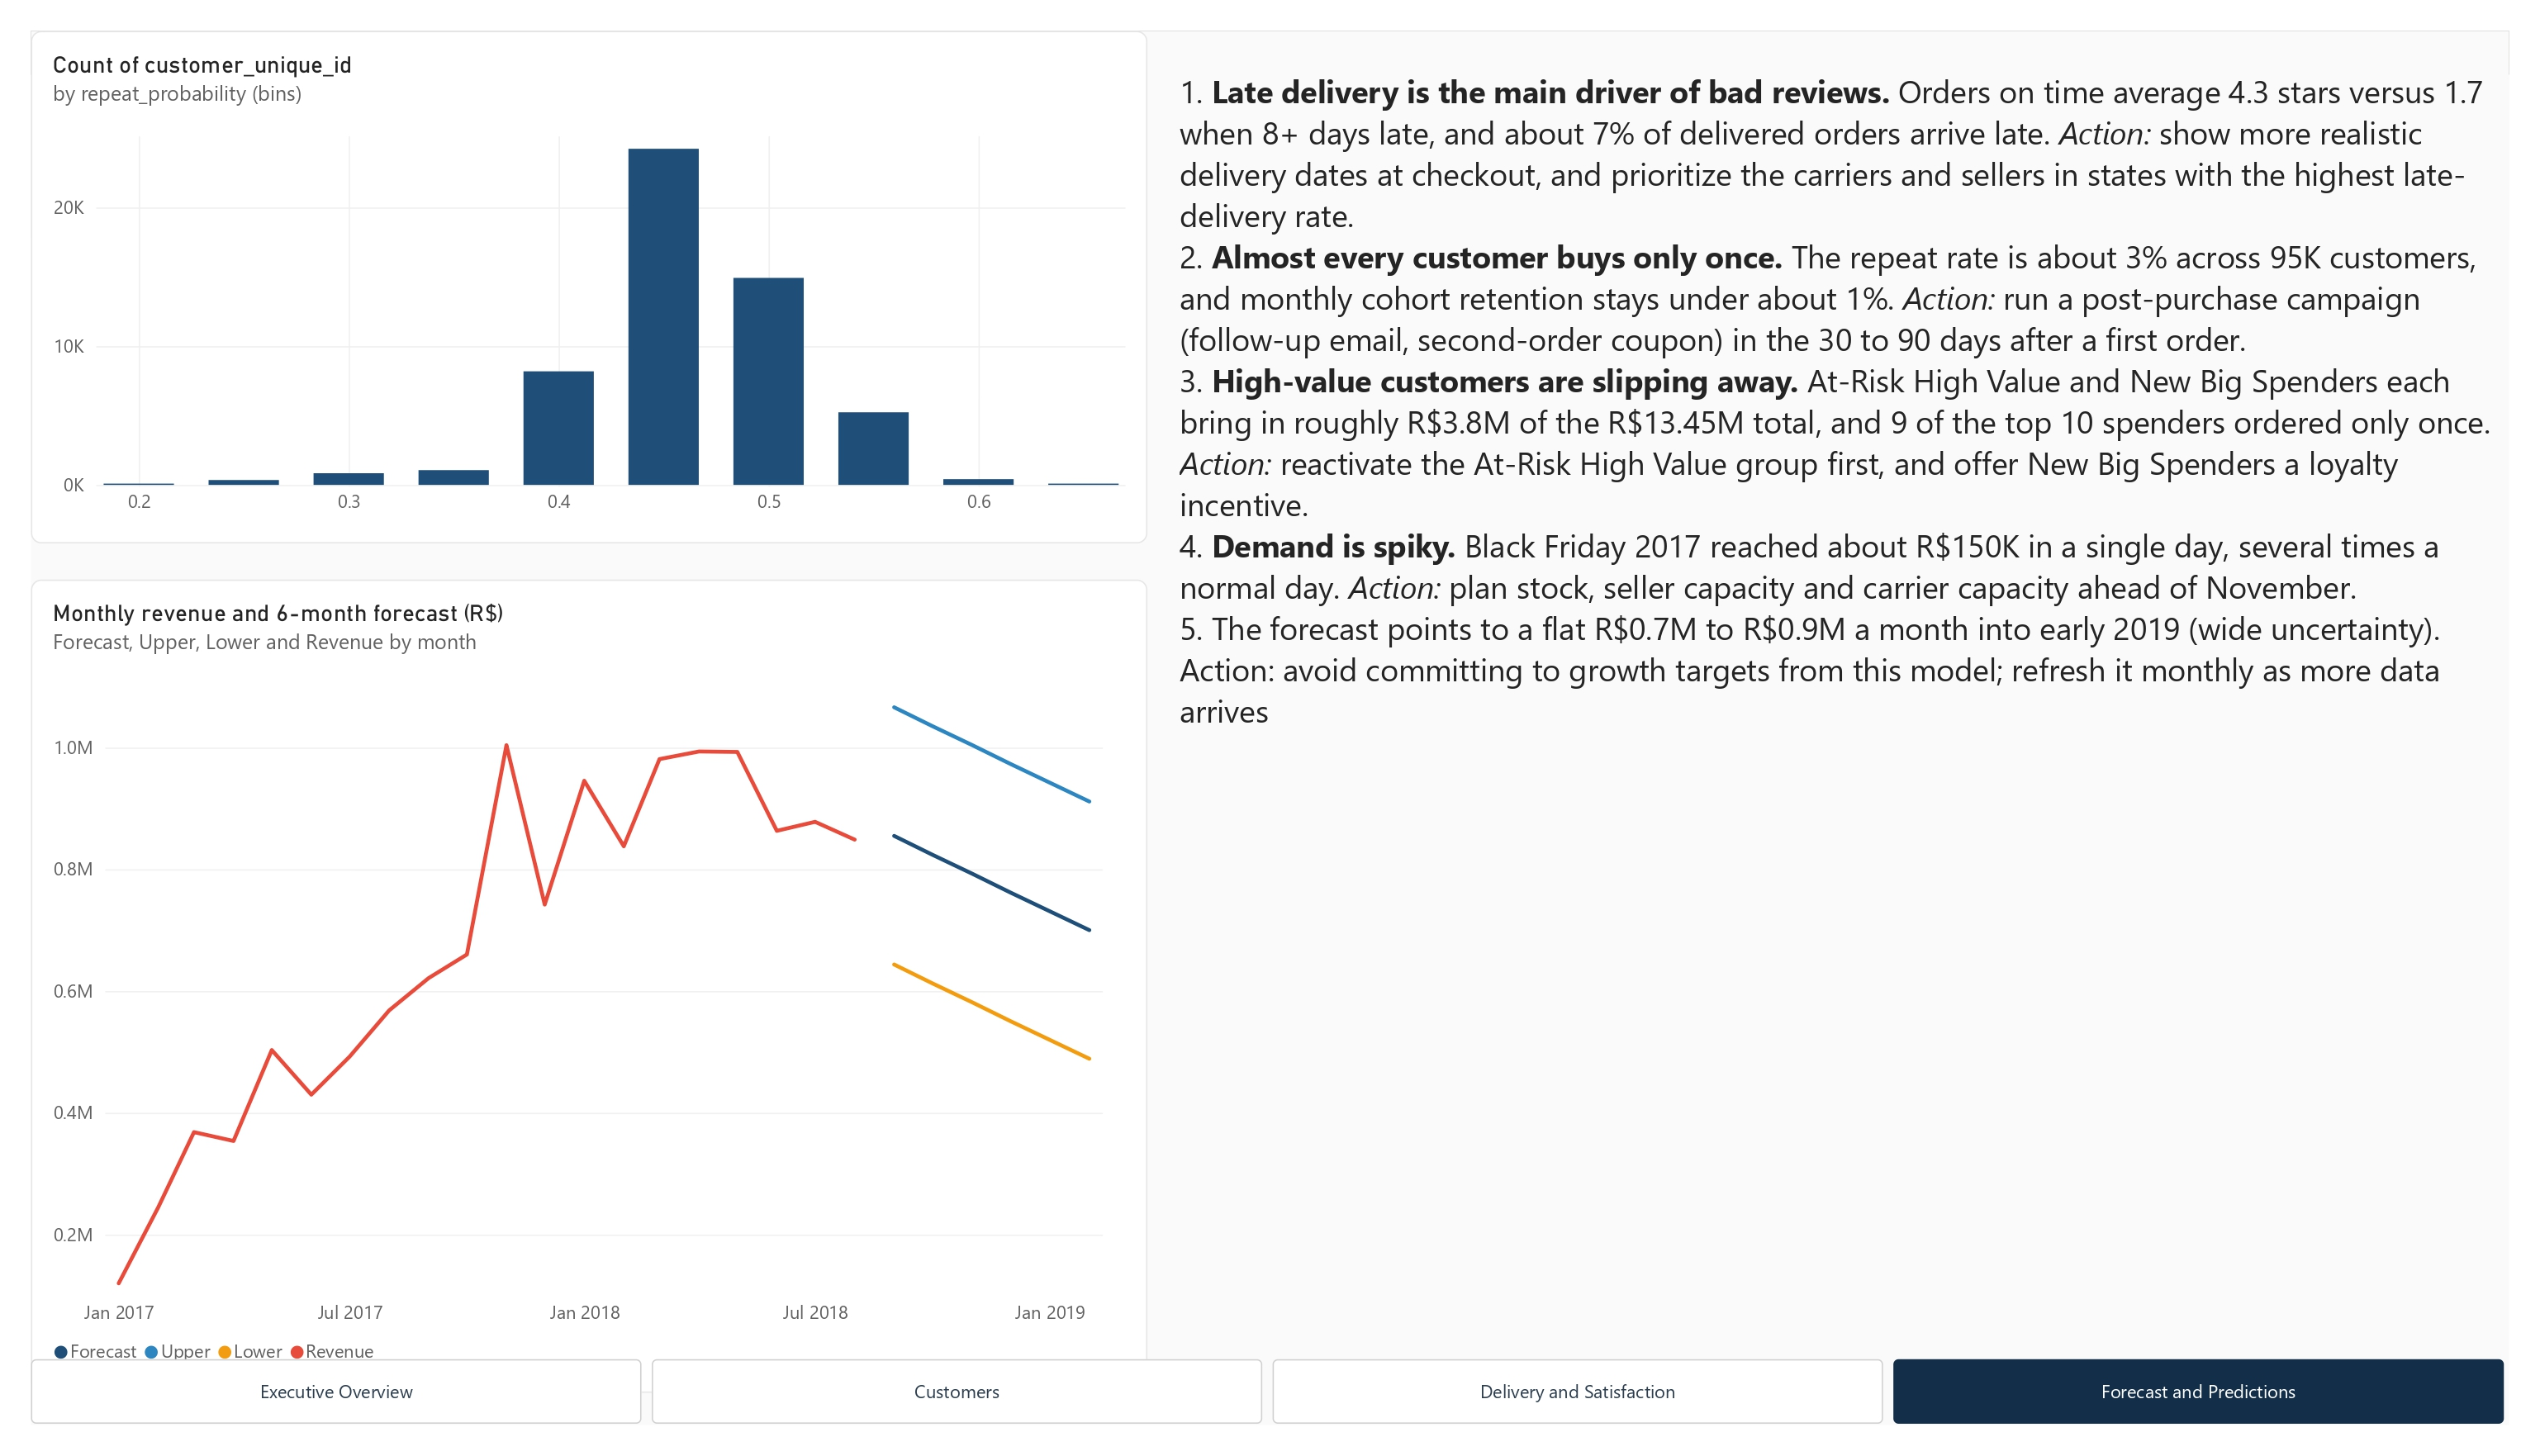

Layout of this report page (visuals, bound fields, positions):
{"tool":"powerbi","page":{"name":"Forecast and Predictions","canvas":[1920,1080],"ordinal":3},"visuals":[{"type":"lineChart","title":"Monthly revenue and 6-month forecast (R$)","fields":{"Category":["revenue_forecast.month"],"Y":["Max(revenue_forecast.forecast)","Max(revenue_forecast.upper)","Max(revenue_forecast.lower)","Max(revenue_forecast.revenue)"]},"box":[0,425,865,630],"z":0},{"type":"clusteredColumnChart","fields":{"Category":["repeat_propensity.repeat_probability (bins)"],"Y":["CountNonNull(repeat_propensity.customer_unique_id)"]},"box":[0,0,865,397],"z":1000},{"type":"pageNavigator","box":[0,1028.9,1919.3,50],"z":2000},{"type":"textbox","box":[890,30,1030,560],"z":2001}]}

Visuals, with their boxes on the page's 1920x1080 design canvas (x1, y1, x2, y2). These are canvas units, not pixel positions in the 2540x1456 screenshot, which may show the page scaled, cropped or inside an application window:
"Monthly revenue and 6-month forecast (R$)" lineChart: x1=0 y1=425 x2=865 y2=1055
clusteredColumnChart - repeat_propensity.repeat_probability (bins) x CountNonNull(repeat_propensity.customer_unique_id): x1=0 y1=0 x2=865 y2=397
pageNavigator: x1=0 y1=1029 x2=1919 y2=1079
textbox: x1=890 y1=30 x2=1920 y2=590
